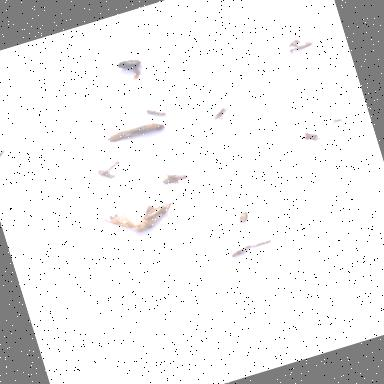pbw: (166, 168, 188, 183), (230, 244, 252, 258), (236, 210, 250, 224)
